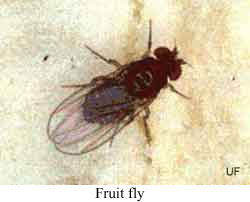phorid fly: (39, 24, 211, 159)
